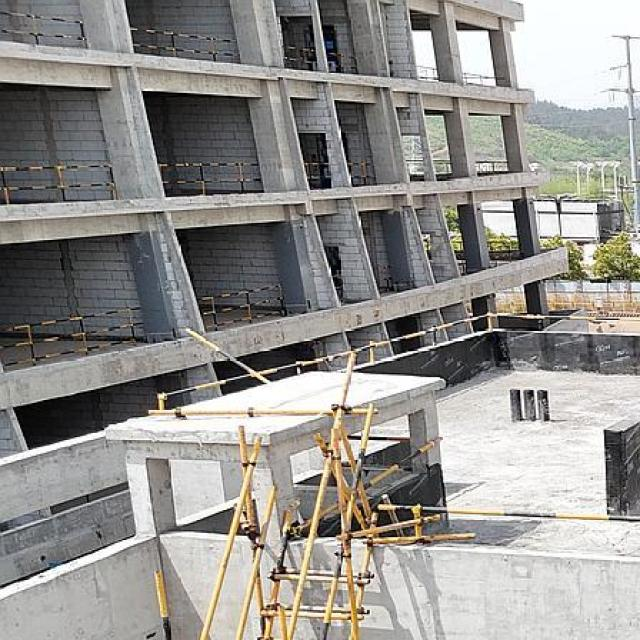edge_guardrail: (157, 312, 640, 411), (0, 306, 146, 371), (375, 502, 640, 537), (184, 326, 273, 385), (0, 164, 117, 205), (197, 284, 286, 332), (129, 26, 242, 61), (0, 8, 89, 48), (157, 163, 262, 196), (149, 407, 380, 417), (282, 43, 317, 71), (346, 161, 371, 185), (303, 162, 331, 178), (463, 72, 496, 85), (326, 49, 346, 68), (474, 160, 507, 171), (418, 66, 438, 80), (433, 160, 454, 173), (406, 159, 424, 172), (487, 240, 504, 250), (333, 274, 343, 289), (451, 240, 463, 250)
